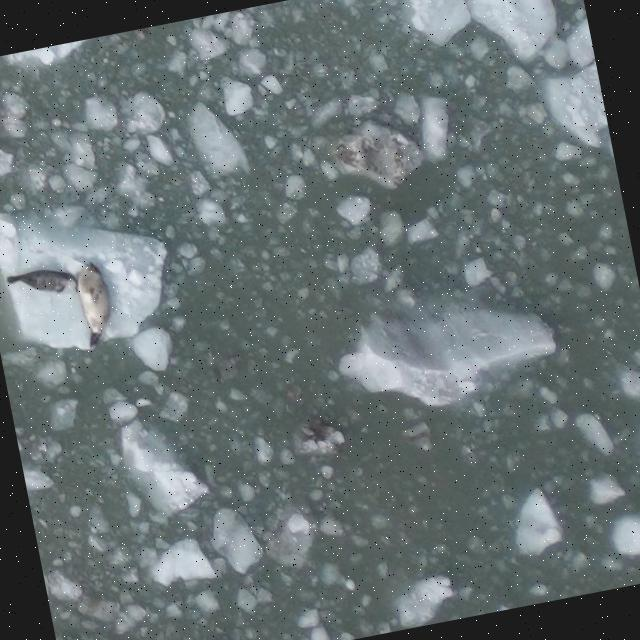seal: (72, 258, 120, 350), (4, 261, 79, 298)
